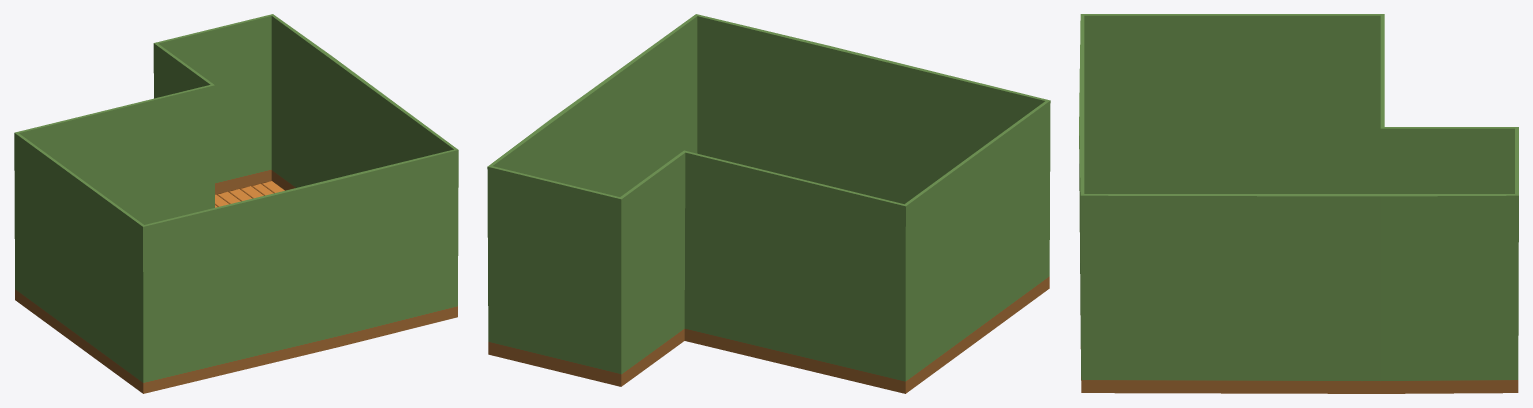
Rendered from room1 (1).fbx.
The picture shows the model from 3 angles, left to right: view 1: azimuth 30°, elevation 25°; view 2: azimuth 150°, elevation 25°; view 3: azimuth 270°, elevation 25°; orthographic projection. The views are drawn at different scales.
Parts seen in each view (by area): view 1: room1_mesh; view 2: room1_mesh; view 3: room1_mesh.
Boxes of the visible parts, x1,y1,x2,y2 form: room1_mesh: [14, 14, 458, 393]; room1_mesh: [487, 14, 1050, 393]; room1_mesh: [1079, 14, 1518, 393].
Bounding box in the file's own units: 2684 × 1366 × 2735.
Materials: 1 (1 with a texture image).
